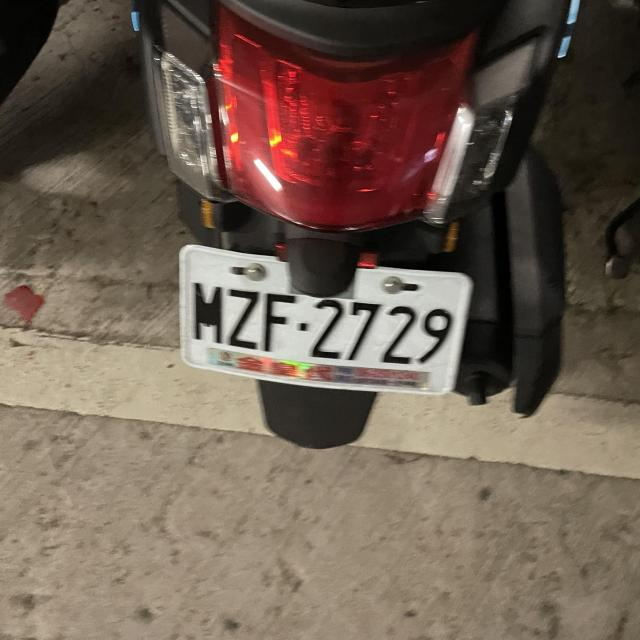W: (168, 242, 476, 397)
